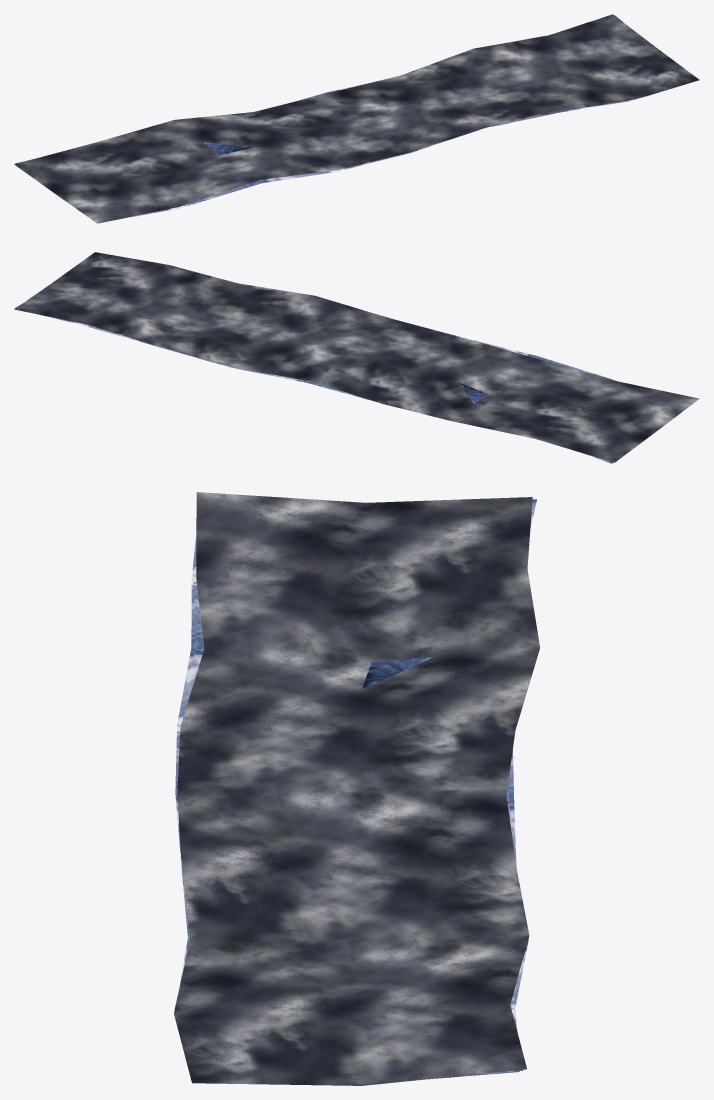
The model's file is LONE_MOUNTAIN_WATERFALLS_WTRROOM_CENTER02.fbx.
3 renders of one model, top to bottom at view 1: azimuth 30°, elevation 25°; view 2: azimuth 150°, elevation 25°; view 3: azimuth 270°, elevation 25°, orthographic. The views are drawn at different scales.
Visible parts, largest first — view 1: LONE_MOUNTAIN_WATERFALLS_WTRROOM_CENTER02; view 2: LONE_MOUNTAIN_WATERFALLS_WTRROOM_CENTER02; view 3: LONE_MOUNTAIN_WATERFALLS_WTRROOM_CENTER02.
Boxes of the visible parts, x1,y1,x2,y2 form: LONE_MOUNTAIN_WATERFALLS_WTRROOM_CENTER02: [14, 14, 699, 223]; LONE_MOUNTAIN_WATERFALLS_WTRROOM_CENTER02: [14, 252, 699, 463]; LONE_MOUNTAIN_WATERFALLS_WTRROOM_CENTER02: [174, 492, 539, 1085].
Size of the model in its own units: 222542 by 3524 by 58601.
Materials: 2 (2 with a texture image).
